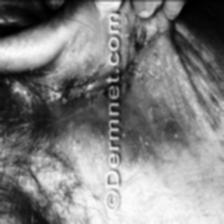Non-Cancerous Skin Condition: (52, 62, 108, 112), (127, 14, 163, 56)
